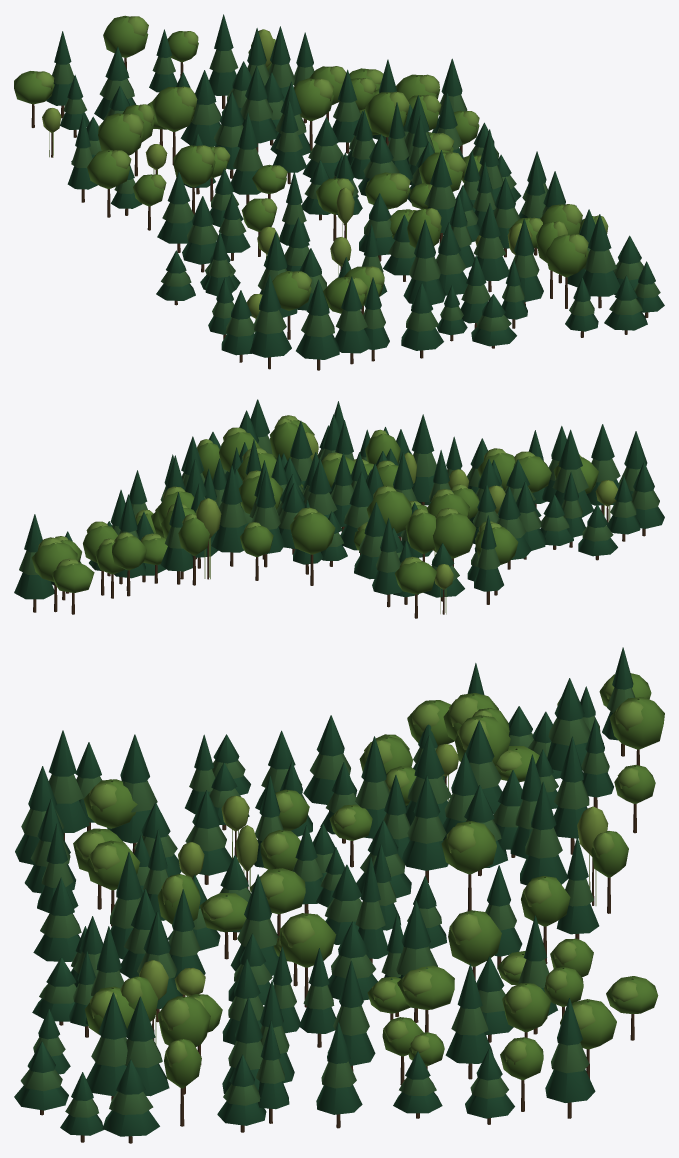
File: forest_2_2.dae
3 views of the same model, one above another, from view 1: azimuth 30°, elevation 25°; view 2: azimuth 150°, elevation 25°; view 3: azimuth 270°, elevation 25° (orthographic). The views are drawn at different scales.
Visible parts, largest first — view 1: forest_2_2; view 2: forest_2_2; view 3: forest_2_2.
Boxes of the visible parts, x1,y1,x2,y2 form: forest_2_2: [14, 14, 664, 370]; forest_2_2: [14, 399, 664, 618]; forest_2_2: [14, 647, 664, 1143].
Bounding box in the file's own units: 134 × 135 × 61.94.
